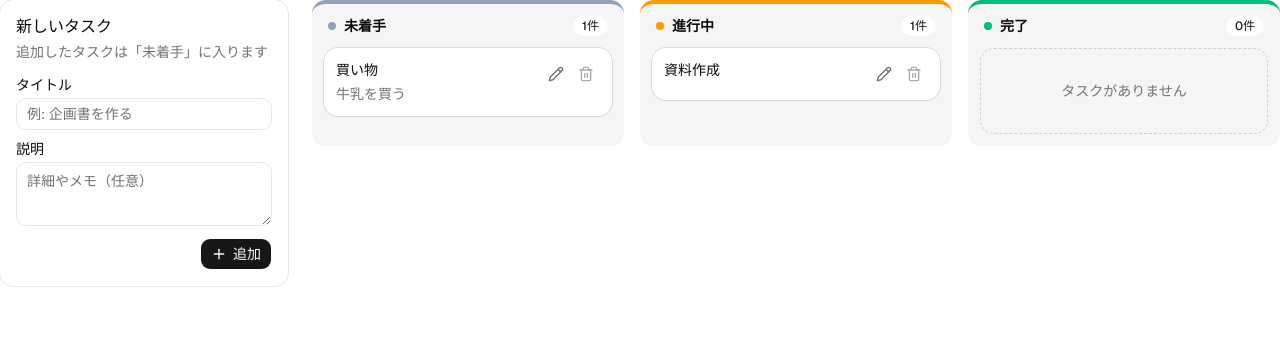
Test: 編集 › タイトルとステータスを変更して保存すると、すぐに移動先の列に反映される
expect the heading "買い物" is shown: met, box [336,61,378,79]
Click the button named "「買い物」を編集".
click(556, 74)  # box [542,60,570,88]
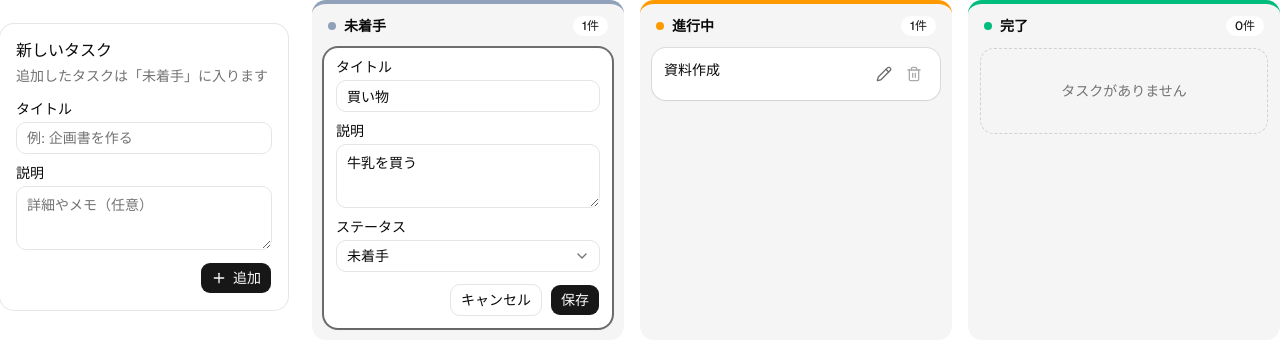
Replace the text in the field labelled "タイトル" in the row of "タスクがありません" with "買い物（済）" at x=468, y=96, box [336,80,600,112]
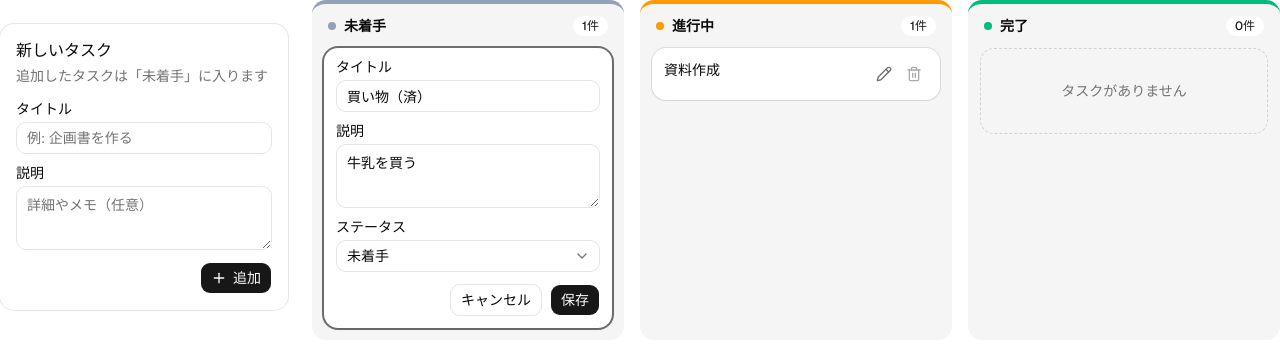
Select "完了" in the dropdown labelled "ステータス" at x=468, y=256, box [336,240,600,272]
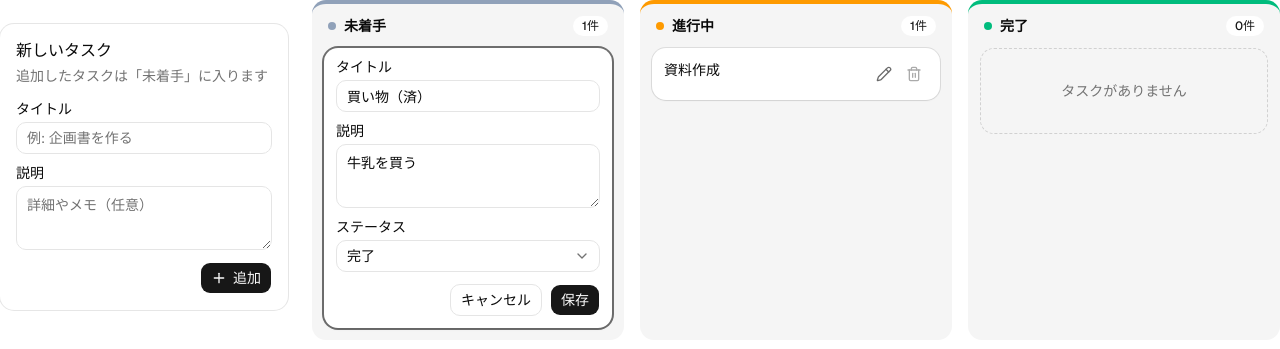
Click the button "保存".
click(575, 300)  # box [550,284,600,316]
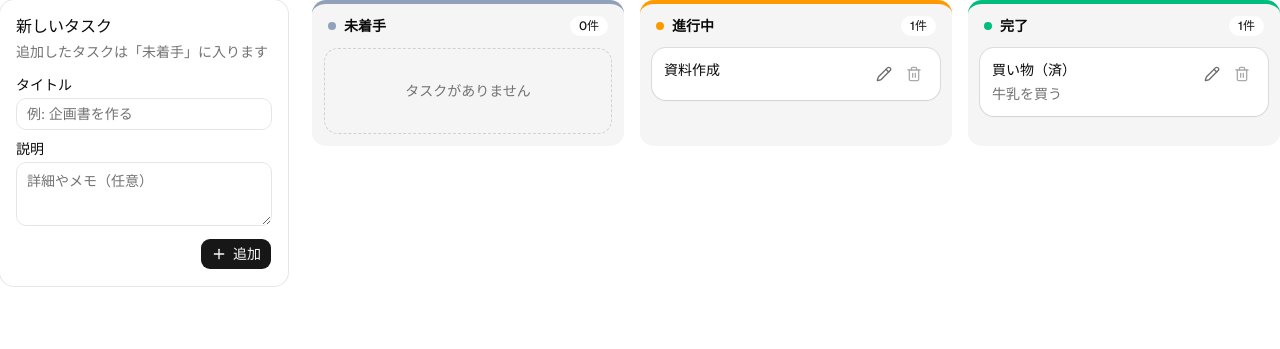
expect the heading "買い物（済）" is shown: met, box [992,61,1076,79]
expect the form "タスクを編集" is gone: met
